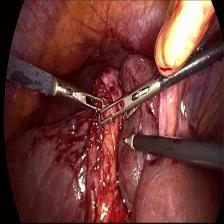Grasper: (95, 72, 161, 132), (57, 79, 106, 110)
Hook: (120, 132, 136, 154)
